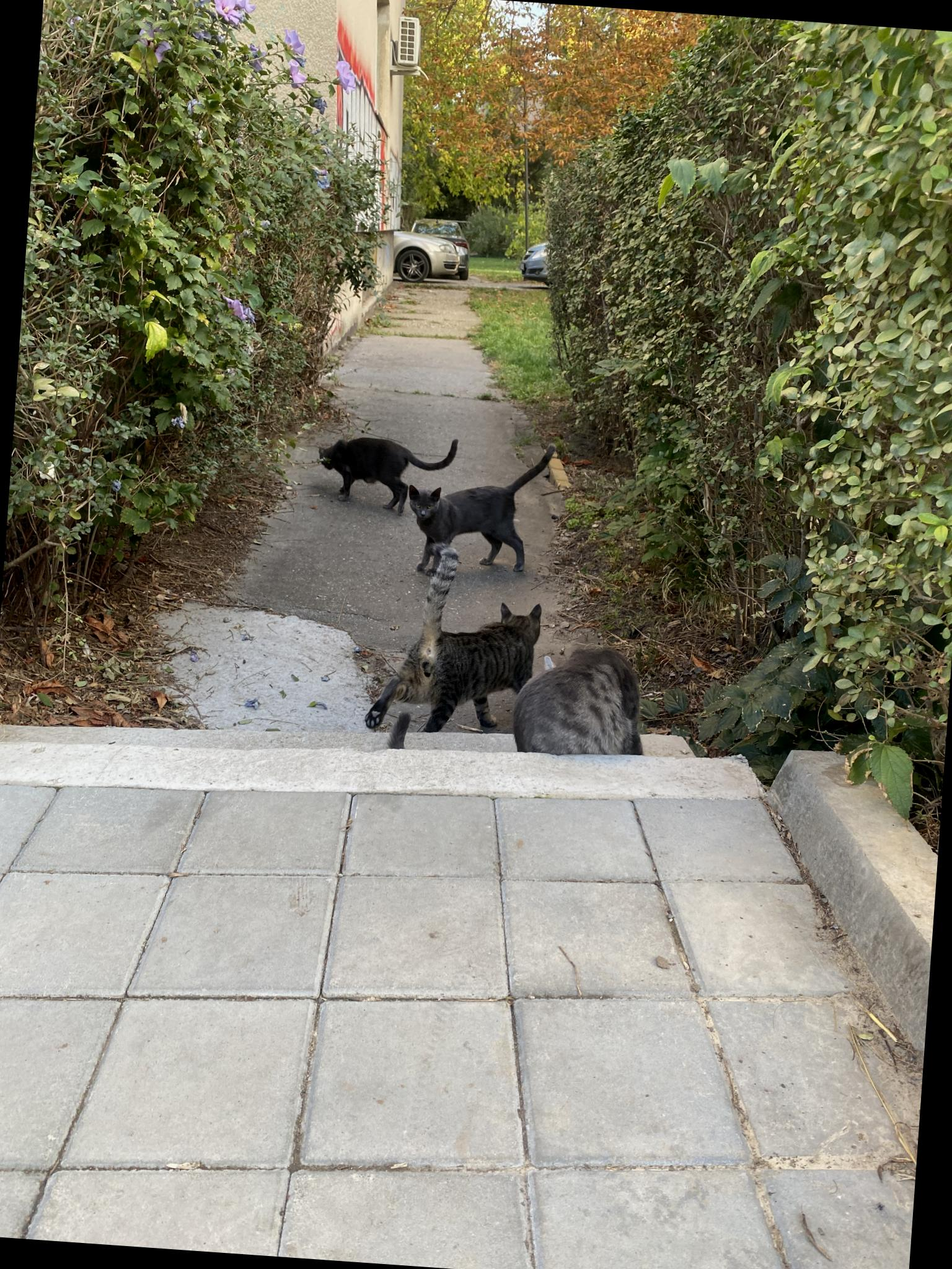macka: (363, 537, 546, 740), (402, 434, 557, 584), (510, 644, 649, 762), (315, 430, 459, 516)
